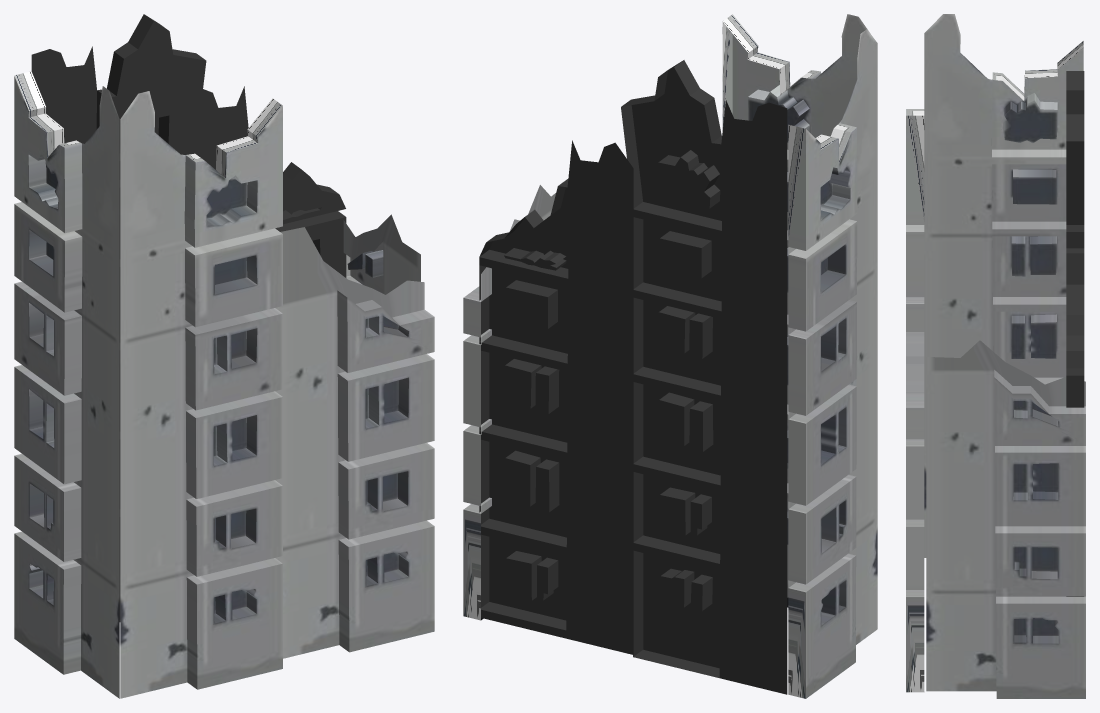
Rendered from Testbuild2.fbx.
3 renders of one model, left to right at view 1: azimuth 30°, elevation 25°; view 2: azimuth 150°, elevation 25°; view 3: azimuth 270°, elevation 25°, orthographic. The views are drawn at different scales.
Parts seen in each view (by area): view 1: build2pixel, build2pixel.002, build2pixel.003, build2pixel.001, build2pixel.004, build2pixel.005; view 2: build2pixel.001, build2pixel.004, build2pixel.002, build2pixel, build2pixel.005; view 3: build2pixel.005, build2pixel.002, build2pixel.003, build2pixel, build2pixel.001, build2pixel.004.
Boxes of the visible parts, x1,y1,x2,y2 form: build2pixel: (120, 91, 282, 698); build2pixel.002: (14, 71, 119, 698); build2pixel.003: (275, 227, 434, 658); build2pixel.001: (31, 14, 206, 621); build2pixel.004: (195, 86, 346, 277); build2pixel.005: (343, 214, 420, 294); build2pixel.001: (621, 60, 787, 694); build2pixel.004: (479, 140, 633, 654); build2pixel.002: (788, 29, 877, 698); build2pixel: (722, 14, 868, 607); build2pixel.005: (463, 185, 555, 620); build2pixel.005: (926, 340, 1085, 698); build2pixel.002: (924, 14, 1083, 557); build2pixel.003: (906, 332, 924, 692); build2pixel: (906, 109, 924, 331); build2pixel.001: (1066, 71, 1084, 248); build2pixel.004: (1066, 248, 1084, 596).
Size of the model in its own units: 158 by 270 by 80.8.
Materials: 2 (1 with a texture image).
